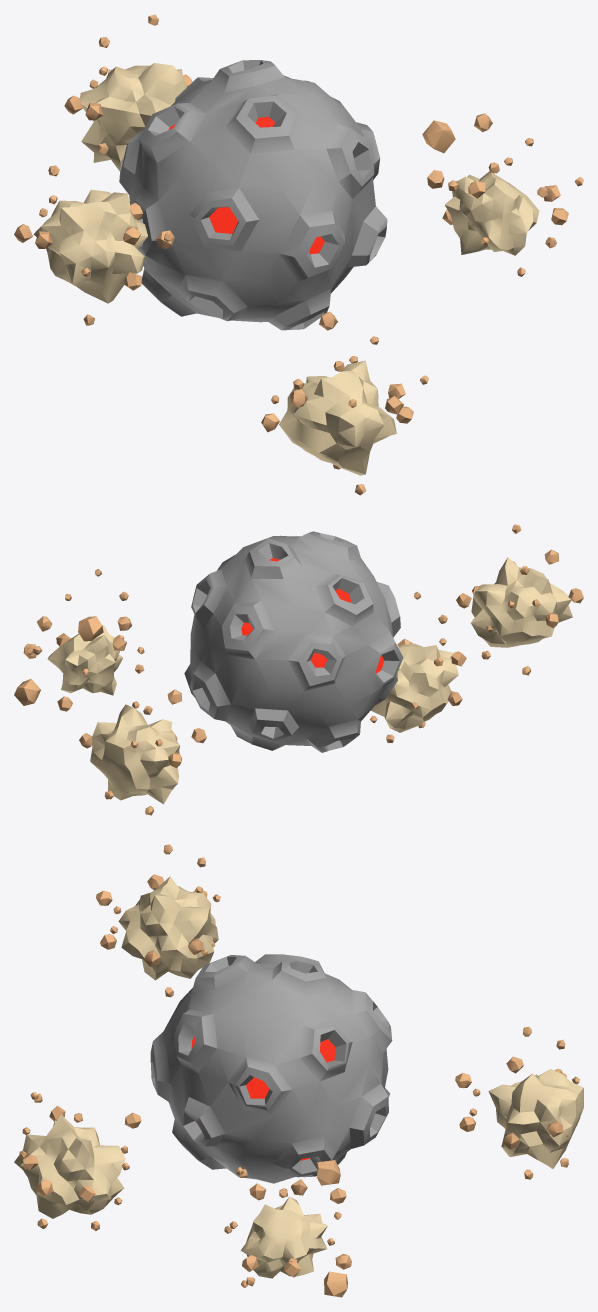
Rendered from planet_chen.fbx.
The picture shows the model from 3 angles, top to bottom: view 1: azimuth 30°, elevation 25°; view 2: azimuth 150°, elevation 25°; view 3: azimuth 270°, elevation 25°; orthographic projection. The views are drawn at different scales.
Visible parts, largest first — view 1: Planet3; view 2: Planet3; view 3: Planet3.
Boxes of the visible parts, x1,y1,x2,y2 form: Planet3: (14, 14, 583, 495); Planet3: (14, 524, 583, 815); Planet3: (14, 844, 583, 1297).
Size of the model in its own units: 168 by 91.87 by 157.
